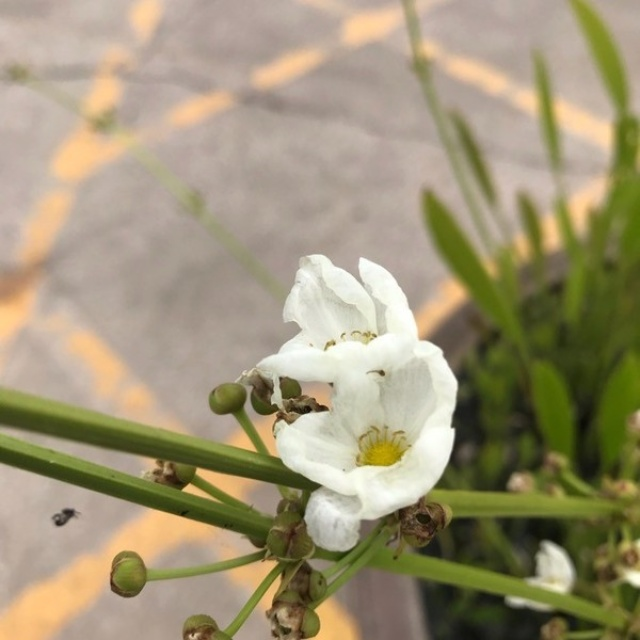obstacle: (57, 192, 627, 602)
